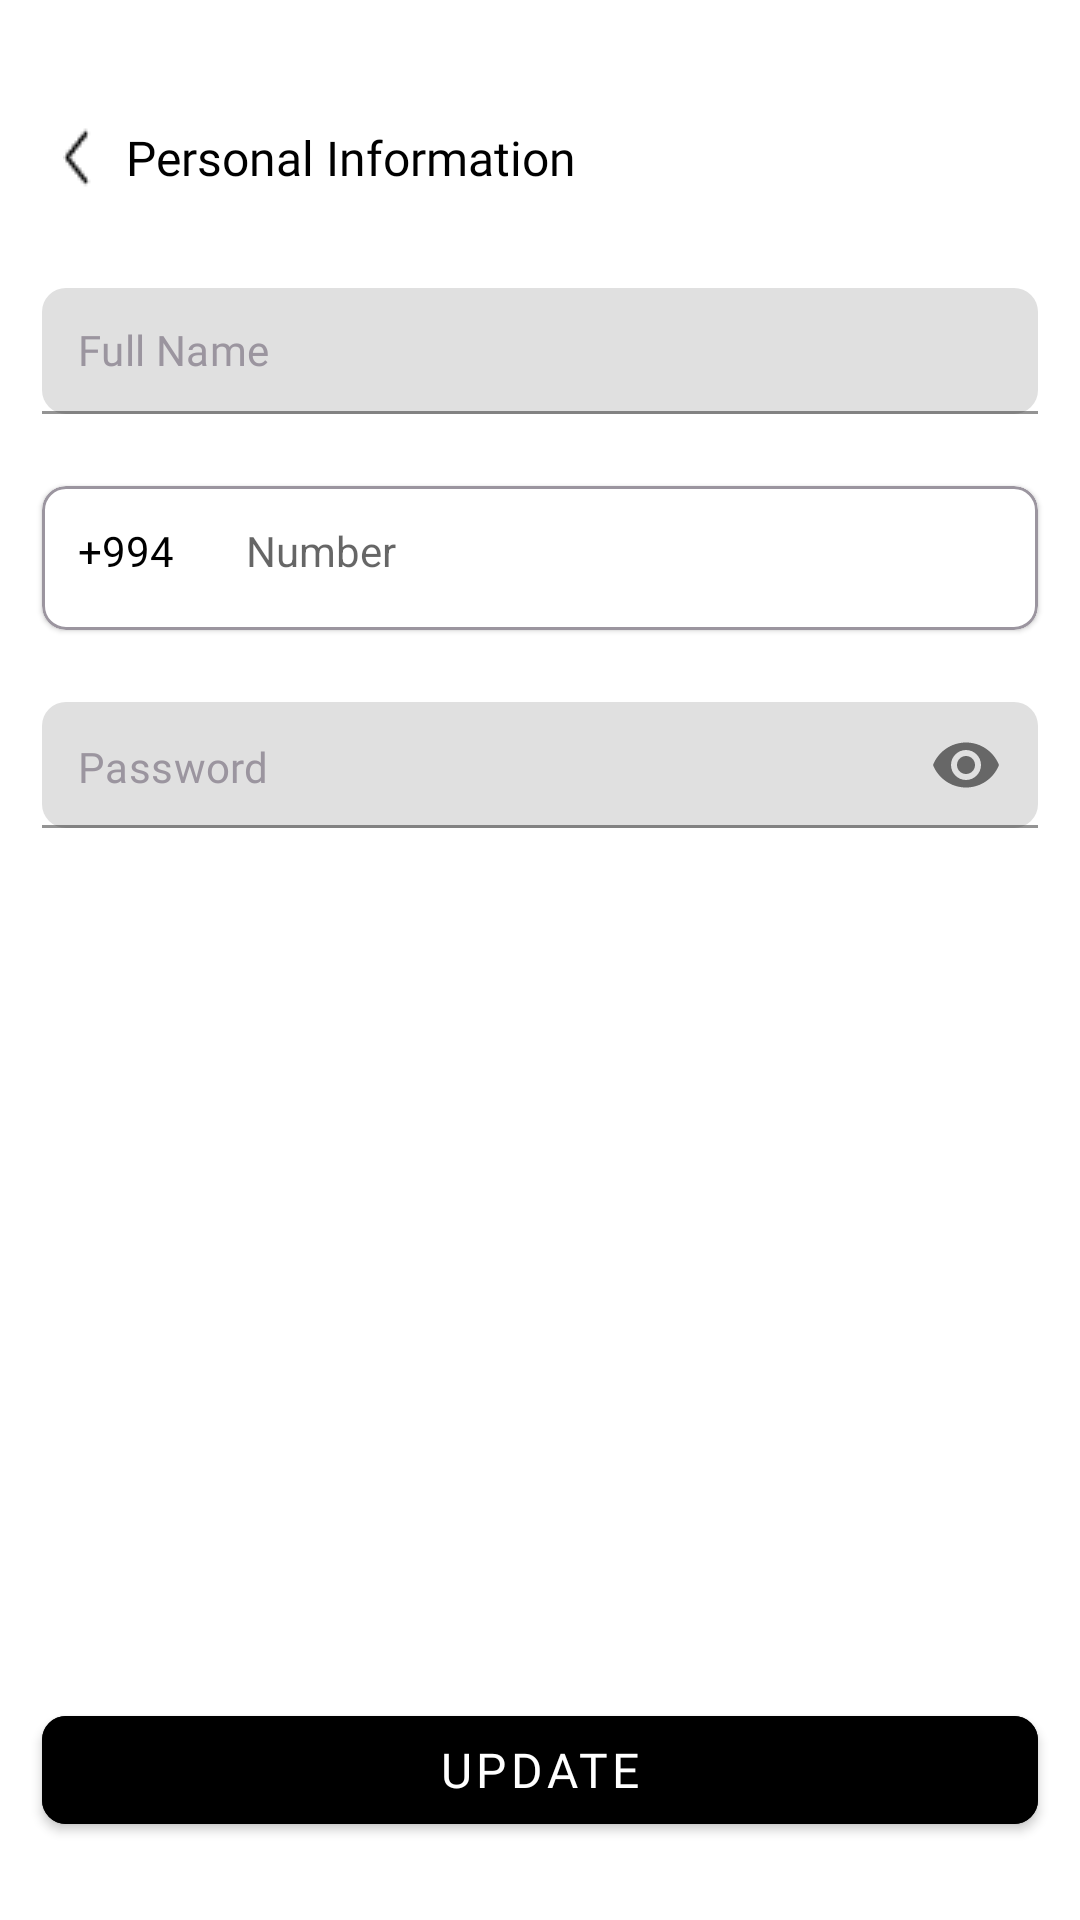

Screen size 1080w x 1920h. Icon name, then its box in pixels as (x1, y1, x2, y2):
back: (63, 129, 89, 185)
